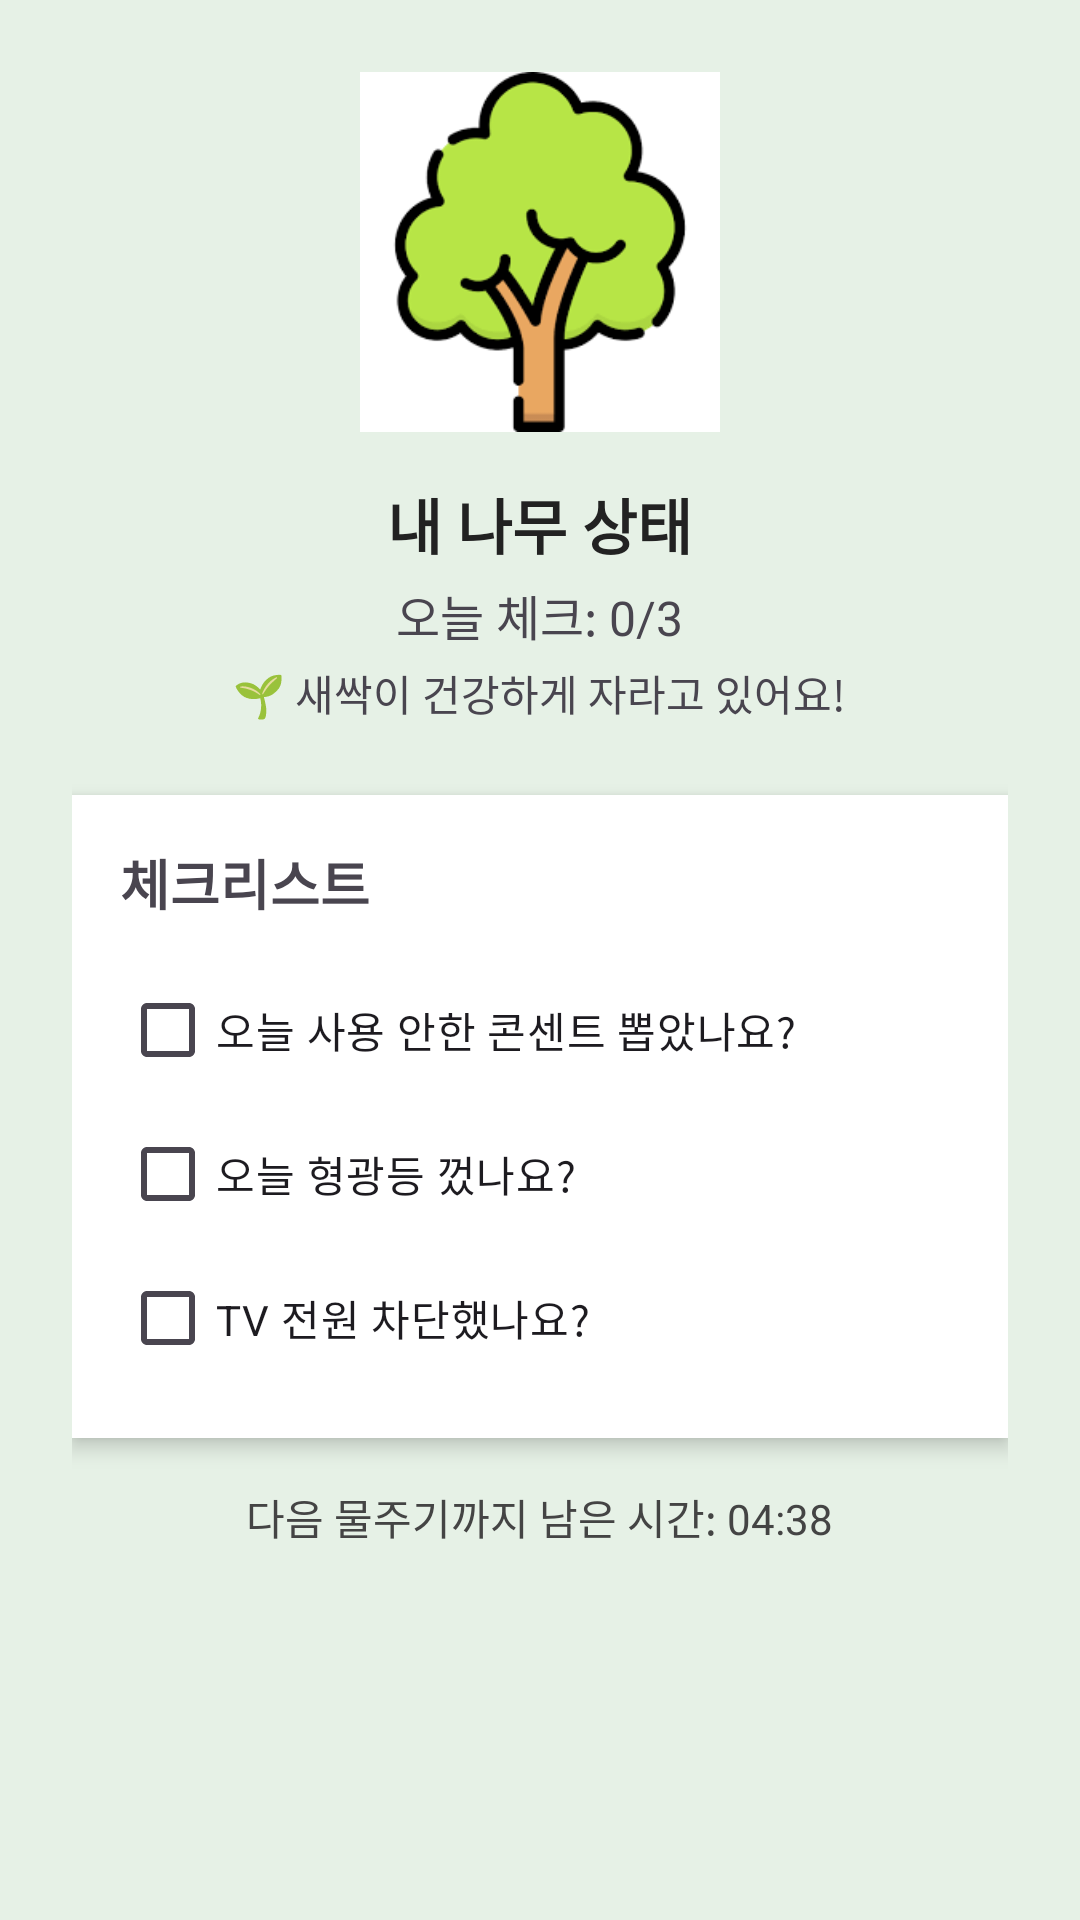

Named icons in this screenshot (1080*1920) and their bounding boxes, (x1, y1, x2, y2):
나무 이미지: (360, 72, 720, 432)
